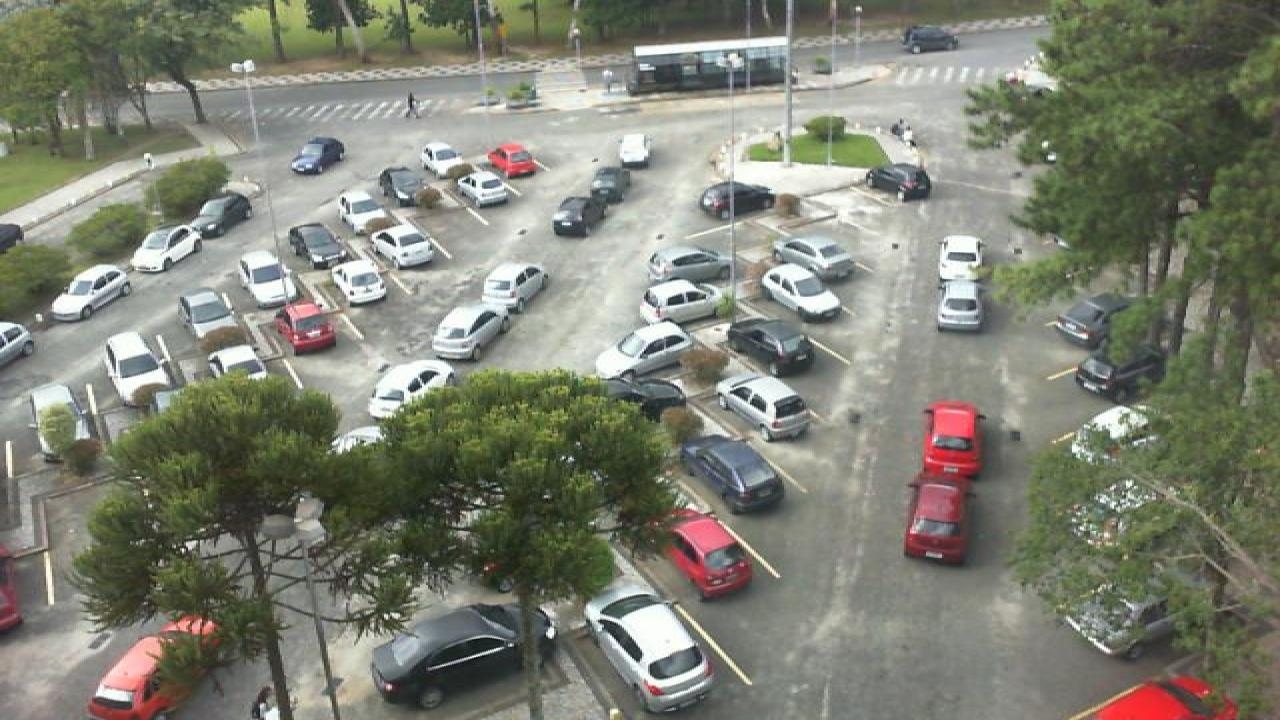Car: (368, 601, 558, 709), (584, 576, 716, 713), (86, 613, 230, 720), (1024, 572, 1174, 662), (642, 509, 754, 600), (678, 433, 786, 514), (1070, 674, 1246, 720), (900, 475, 974, 566), (712, 375, 810, 441), (594, 320, 692, 382), (104, 329, 178, 410), (1070, 342, 1160, 403), (726, 317, 814, 378), (920, 400, 986, 480), (366, 360, 452, 420), (760, 260, 842, 322), (48, 262, 132, 321), (430, 303, 508, 361), (1048, 293, 1126, 351), (1056, 404, 1152, 450), (26, 382, 82, 458), (178, 288, 240, 351), (770, 234, 856, 279), (640, 278, 724, 323), (480, 260, 550, 313), (646, 243, 730, 286), (132, 225, 204, 273), (278, 302, 338, 356), (238, 249, 292, 307), (696, 179, 774, 219), (190, 193, 252, 242), (932, 279, 986, 333), (290, 222, 348, 272), (336, 190, 396, 238), (372, 226, 438, 269), (206, 343, 270, 387), (866, 162, 934, 202), (934, 234, 984, 288), (330, 260, 388, 306), (376, 166, 432, 210), (290, 136, 346, 177), (486, 143, 542, 180), (458, 170, 514, 207), (552, 195, 598, 238), (420, 141, 466, 179), (584, 166, 630, 202), (0, 320, 32, 362), (618, 132, 652, 170)
